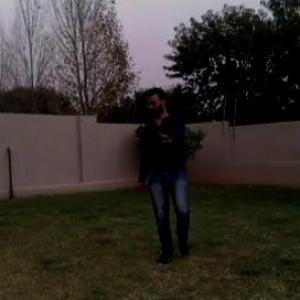takeoff-hand: (154, 121, 176, 151)
